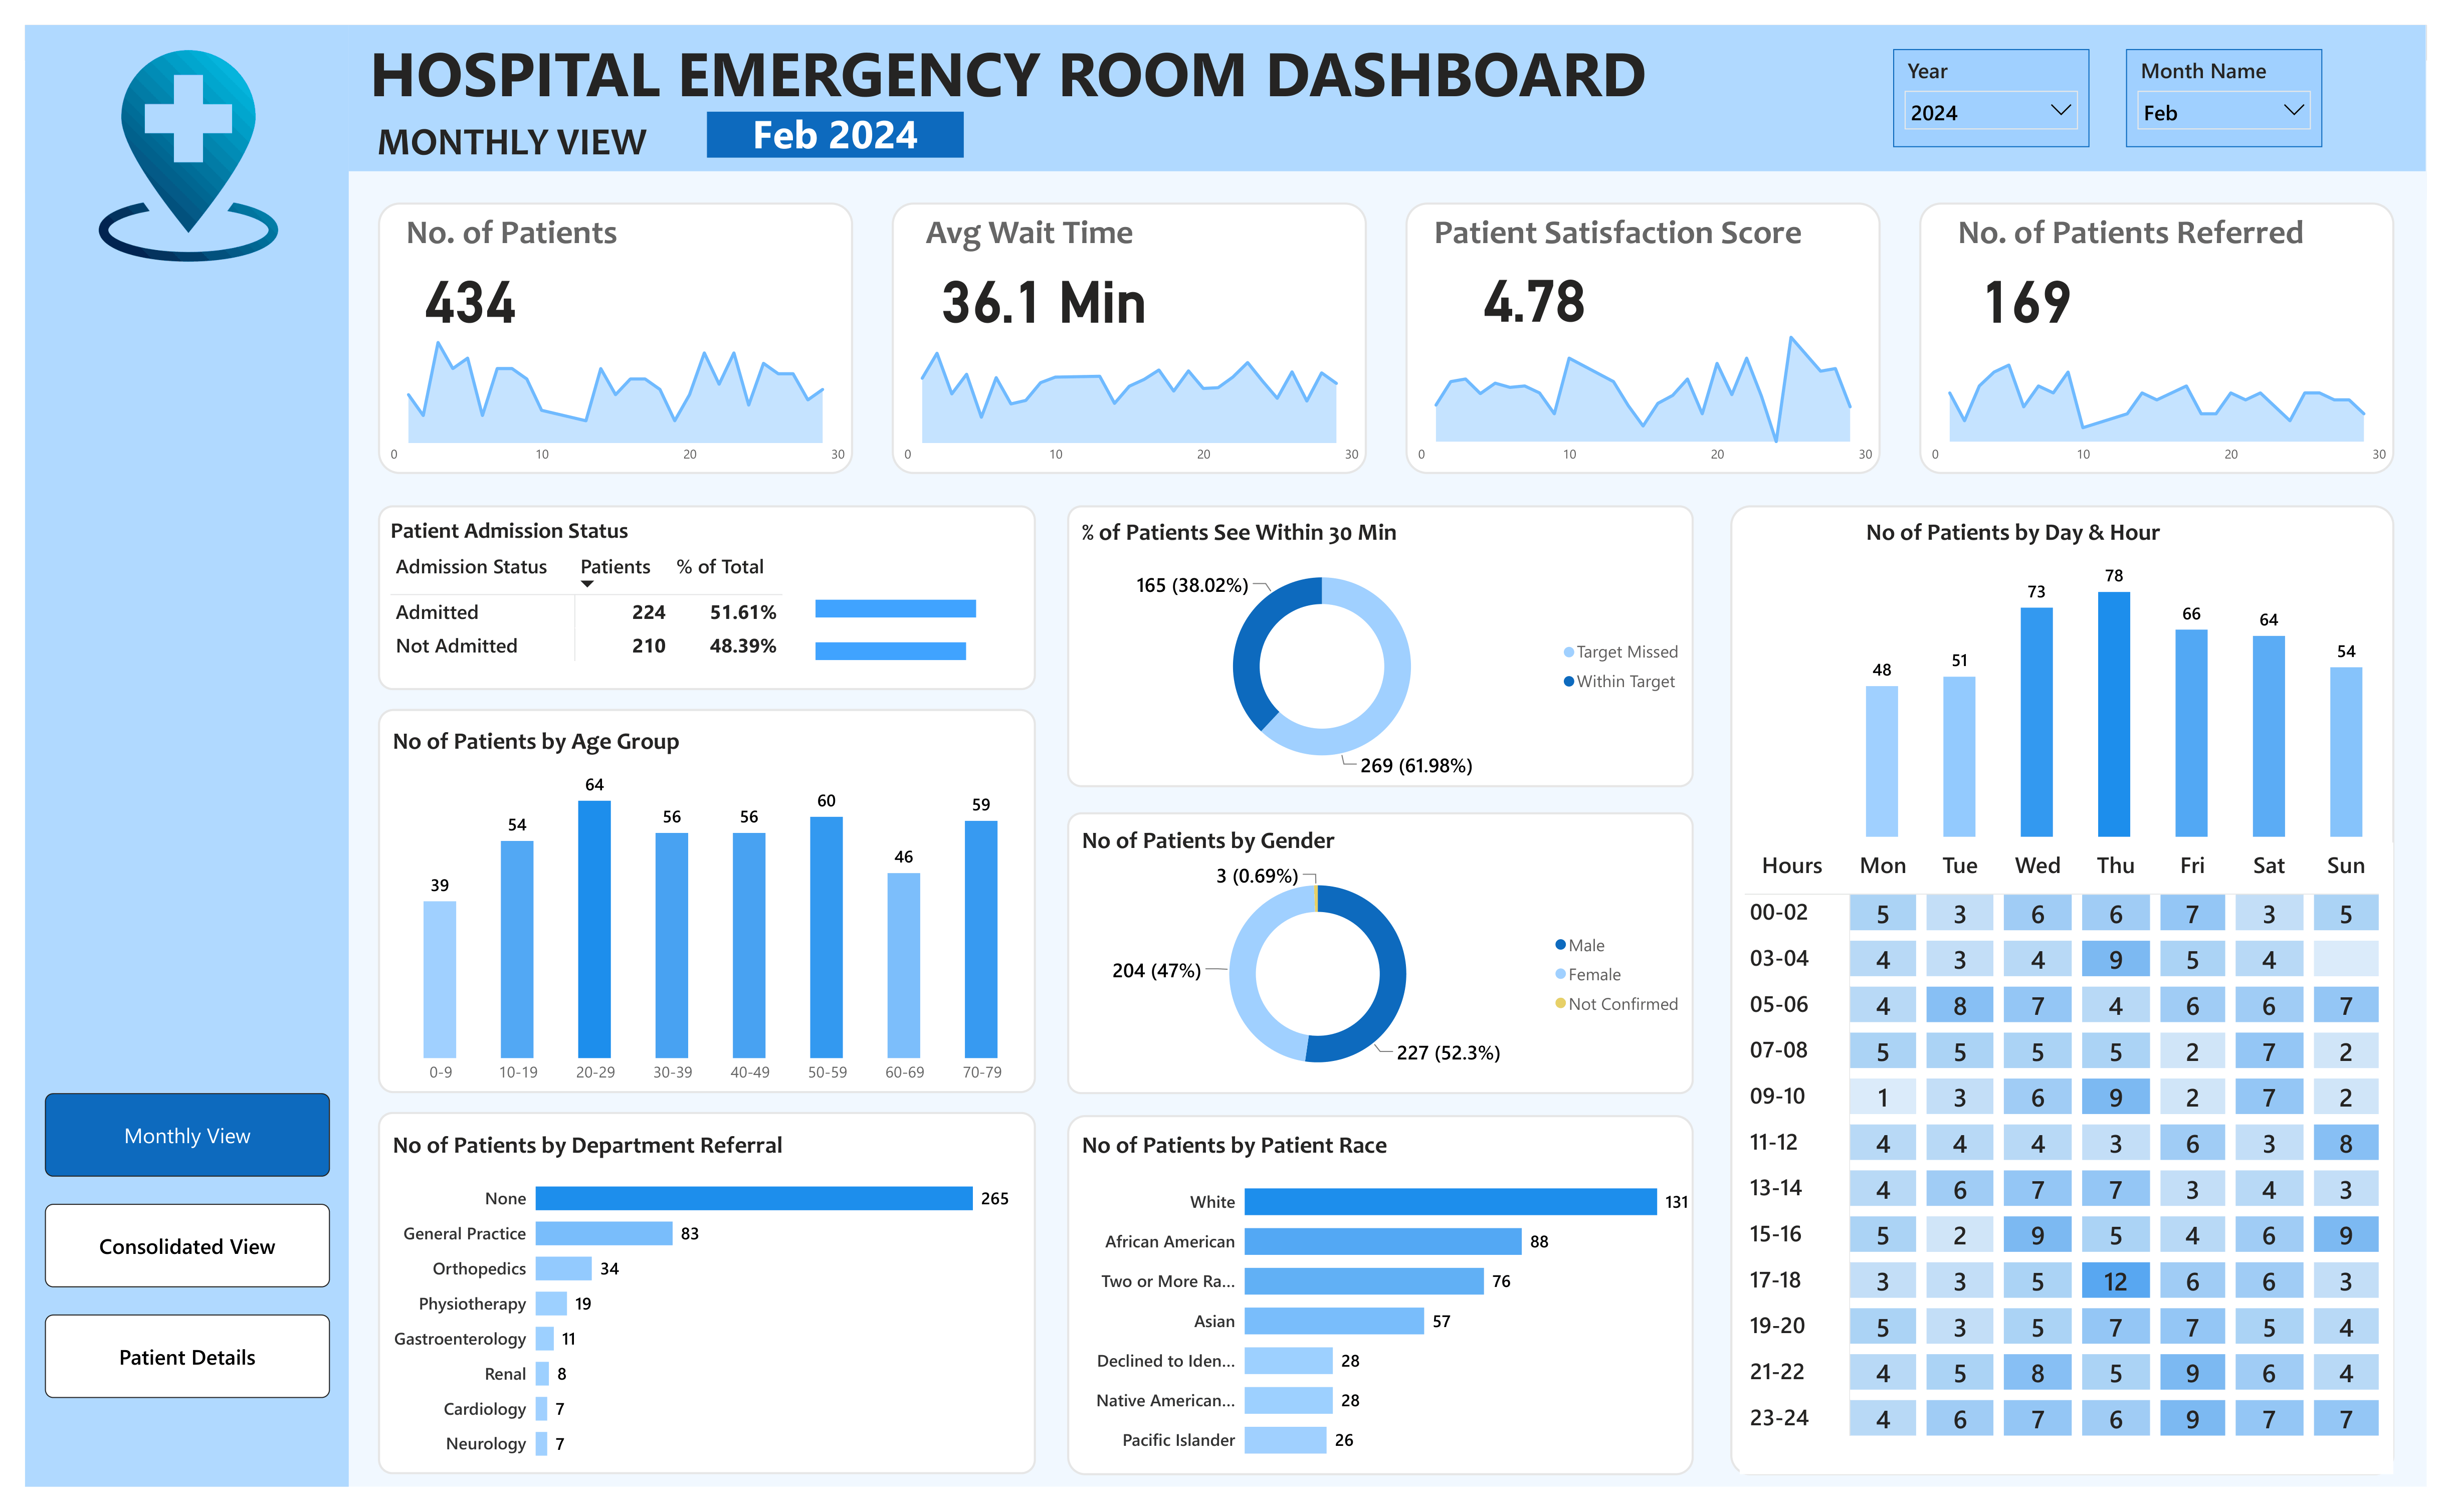

This screenshot's page, from the dashboard's own definition file:
{"tool":"powerbi","page":{"name":"Monthly View","canvas":[2300,1400],"ordinal":0},"visuals":[{"type":"shape","box":[0,0,310,1400.3],"z":0},{"type":"shape","box":[310.4,0,1988.9,140.3],"z":1000},{"type":"textbox","box":[310.4,0,1262.3,89],"z":2000},{"type":"textbox","box":[326.5,82.8,278.2,57.5],"z":3000},{"type":"slicer","fields":{"Values":["Date Table.Year"]},"box":[1788.9,23,188.5,94.3],"z":4000},{"type":"slicer","fields":{"Values":["Date Table.Month Name"]},"box":[2011.9,23,188.5,94.3],"z":5000},{"type":"shape","box":[338,170.2,455,259.8],"z":6000},{"type":"cardVisual","fields":{"Data":["New Measures.No of Patients"]},"box":[365.6,227.6,121.9,71.3],"z":7000},{"type":"textbox","box":[326.5,179.3,278.2,48.3],"z":8000},{"type":"areaChart","fields":{"Category":["Date Table.Date.Variation.Date Hierarchy.Day"],"Y":["New Measures.No of Patients"]},"box":[338,285.1,455.3,144.9],"z":9000},{"type":"cardVisual","fields":{"Data":["Min(Date Table.Month & Year)"]},"box":[653,82.8,246,44],"z":10000},{"type":"shape","box":[830.1,170.2,455,259.8],"z":11000},{"type":"cardVisual","fields":{"Data":["New Measures.Avg Wait Time"]},"box":[876.1,227.6,200,71.3],"z":12000},{"type":"areaChart","fields":{"Category":["Date Table.Date.Variation.Date Hierarchy.Day"],"Y":["Avg(Hospital ER_Data.Patient Waittime)"]},"box":[830.1,285.1,455.3,144.9],"z":13000},{"type":"shape","box":[1322.1,170.2,455,259.8],"z":14000},{"type":"cardVisual","fields":{"Data":["New Measures.Satisfaction Score"]},"box":[1385.4,227.3,121.9,71.3],"z":15000},{"type":"areaChart","fields":{"Category":["Date Table.Date.Variation.Date Hierarchy.Day"],"Y":["New Measures.Satisfaction Score"]},"box":[1322.1,285.1,455.3,144.9],"z":16000},{"type":"shape","box":[1814.2,170.2,455,259.8],"z":17000},{"type":"cardVisual","fields":{"Data":["New Measures.No of Patients Referred"]},"box":[1855.6,227.6,121.9,71.3],"z":18000},{"type":"areaChart","fields":{"Category":["Date Table.Date.Variation.Date Hierarchy.Day"],"Y":["New Measures.No of Patients Referred"]},"box":[1814.2,285.1,455.3,144.9],"z":19000},{"type":"textbox","box":[823,179.3,278.2,48.3],"z":20000},{"type":"textbox","box":[1312.9,179.3,425.4,48.3],"z":21000},{"type":"textbox","box":[1800.4,179.3,432.3,48.3],"z":22000},{"type":"shape","box":[338,459.9,630,177],"z":23000},{"type":"pivotTable","title":"Patient Admission Status","fields":{"Rows":["Hospital ER_Data.Admission Status"],"Values":["New Measures.No of Patients1","New Measures.No of Patients"]},"box":[344.9,471.4,616.2,149.5],"z":24000},{"type":"barChart","fields":{"Category":["Hospital ER_Data.Admission Status"],"Y":["New Measures.No of Patients"]},"box":[751.9,517.4,216.1,119.6],"z":25000},{"type":"shape","box":[338,655.1,630,368],"z":26000},{"type":"clusteredColumnChart","fields":{"Category":["Hospital ER_Data.Age Group"],"Y":["New Measures.No of Patients"]},"box":[347.2,671.2,620.8,351.8],"z":27000},{"type":"shape","box":[338,1040.9,630,347],"z":28000},{"type":"clusteredBarChart","fields":{"Category":["Hospital ER_Data.Department Referral"],"Y":["New Measures.No of Patients"]},"box":[347.2,1057.7,620.8,331.1],"z":29000},{"type":"shape","box":[997.9,459.9,600,270],"z":30000},{"type":"donutChart","title":"% of Patients See Within 30 Min","fields":{"Category":["Hospital ER_Data.Waittime Status"],"Y":["New Measures.No of Patients"]},"box":[1007.1,471.4,590.9,257.5],"z":31000},{"type":"shape","box":[997.9,754.2,600,270],"z":32000},{"type":"donutChart","title":"No of Patients by Gender","fields":{"Y":["New Measures.No of Patients"],"Category":["Hospital ER_Data.Patient Gender"]},"box":[1007.1,765.7,590.9,257.5],"z":33000},{"type":"shape","box":[997.9,1043.9,600.1,344.9],"z":34000},{"type":"clusteredBarChart","fields":{"Y":["New Measures.No of Patients"],"Category":["Hospital ER_Data.Patient Race"]},"box":[1007.1,1057.7,590.9,331.1],"z":35000},{"type":"shape","box":[1632.5,459.9,636.9,928.9],"z":36000},{"type":"pivotTable","fields":{"Rows":["Hospital ER_Data.Waittime Interval"],"Columns":["Date Table.Day Name"],"Values":["New Measures.No of Patients"]},"box":[1641.7,783.4,626.2,604.4],"z":37000},{"type":"columnChart","title":"No of Patients by Day & Hour","fields":{"Category":["Date Table.Day Name"],"Y":["New Measures.No of Patients"]},"box":[1757.7,471.5,488.4,311.9],"z":38000},{"type":"image","box":[33.8,24.2,244.2,203.1],"z":38001},{"type":"pageNavigator","box":[19.3,1022.7,273.2,292.5],"z":38002}]}

Visuals, with their boxes on the page's 2300x1400 design canvas (x1, y1, x2, y2). These are canvas units, not pixel positions in the 2452x1512 screenshot, which may show the page scaled, cropped or inside an application window:
shape: (0,0,310,1400)
shape: (310,0,2299,140)
textbox: (310,0,1573,89)
textbox: (326,83,605,140)
slicer - Date Table.Year: (1789,23,1977,117)
slicer - Date Table.Month Name: (2012,23,2200,117)
shape: (338,170,793,430)
cardVisual - New Measures.No of Patients: (366,228,488,299)
textbox: (326,179,605,228)
areaChart - Date Table.Date.Variation.Date Hierarchy.Day x New Measures.No of Patients: (338,285,793,430)
cardVisual - Min(Date Table.Month & Year): (653,83,899,127)
shape: (830,170,1285,430)
cardVisual - New Measures.Avg Wait Time: (876,228,1076,299)
areaChart - Date Table.Date.Variation.Date Hierarchy.Day x Avg(Hospital ER_Data.Patient Waittime): (830,285,1285,430)
shape: (1322,170,1777,430)
cardVisual - New Measures.Satisfaction Score: (1385,227,1507,299)
areaChart - Date Table.Date.Variation.Date Hierarchy.Day x New Measures.Satisfaction Score: (1322,285,1777,430)
shape: (1814,170,2269,430)
cardVisual - New Measures.No of Patients Referred: (1856,228,1978,299)
areaChart - Date Table.Date.Variation.Date Hierarchy.Day x New Measures.No of Patients Referred: (1814,285,2270,430)
textbox: (823,179,1101,228)
textbox: (1313,179,1738,228)
textbox: (1800,179,2233,228)
shape: (338,460,968,637)
"Patient Admission Status" pivotTable: (345,471,961,621)
barChart - Hospital ER_Data.Admission Status x New Measures.No of Patients: (752,517,968,637)
shape: (338,655,968,1023)
clusteredColumnChart - Hospital ER_Data.Age Group x New Measures.No of Patients: (347,671,968,1023)
shape: (338,1041,968,1388)
clusteredBarChart - Hospital ER_Data.Department Referral x New Measures.No of Patients: (347,1058,968,1389)
shape: (998,460,1598,730)
"% of Patients See Within 30 Min" donutChart: (1007,471,1598,729)
shape: (998,754,1598,1024)
"No of Patients by Gender" donutChart: (1007,766,1598,1023)
shape: (998,1044,1598,1389)
clusteredBarChart - New Measures.No of Patients x Hospital ER_Data.Patient Race: (1007,1058,1598,1389)
shape: (1632,460,2269,1389)
pivotTable - Hospital ER_Data.Waittime Interval x Date Table.Day Name: (1642,783,2268,1388)
"No of Patients by Day & Hour" columnChart: (1758,472,2246,783)
image: (34,24,278,227)
pageNavigator: (19,1023,292,1315)
